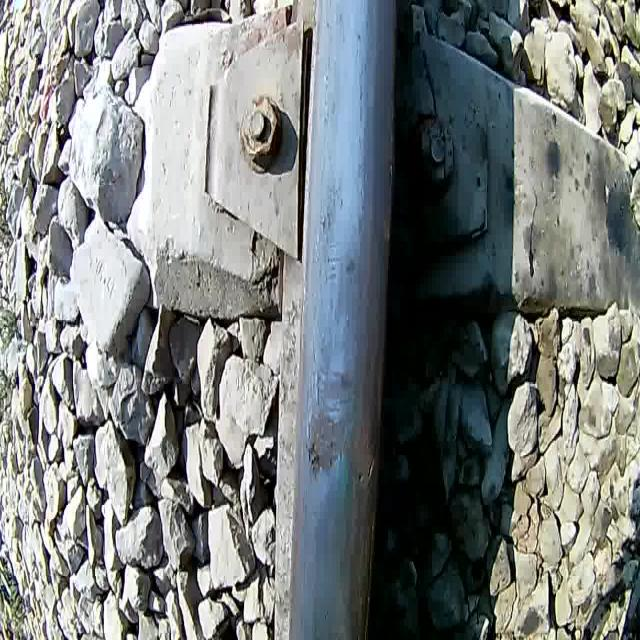Cracks: (364, 441, 382, 485)
Spallings: (301, 434, 326, 481)
Squats: (302, 363, 381, 496)
